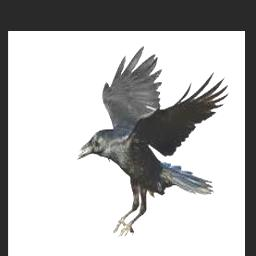Crow: (77, 46, 229, 236)
